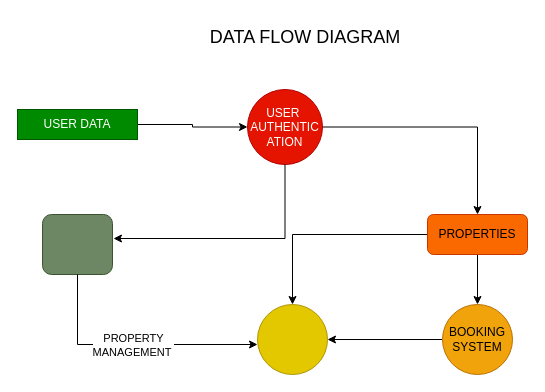
This 545x392 diagram has some shape labels left out. The shapes that lost their labels are listed below. From the top down, each one's centre as x and y in pixels, then its label:
(x=77, y=244): USER
(x=292, y=339): PAYMENTS
